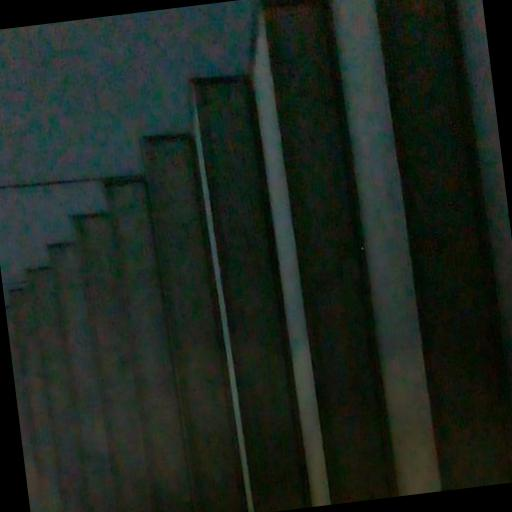stairs: (6, 0, 511, 511)
